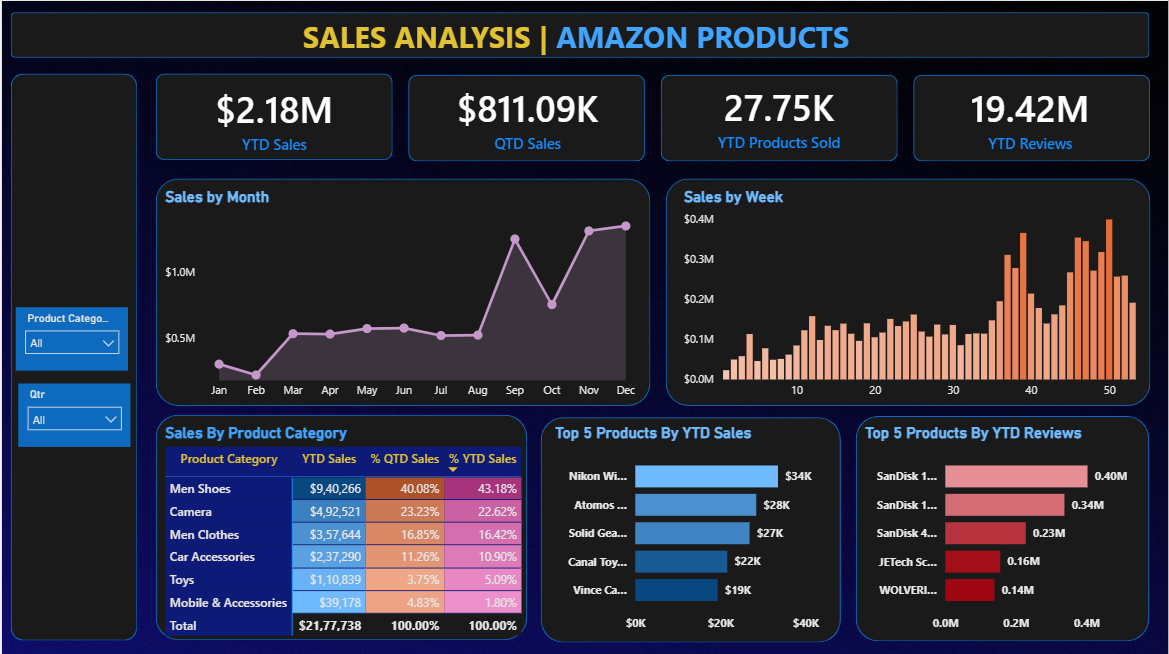

Layout of this report page (visuals, bound fields, positions):
{"tool":"powerbi","page":{"name":"Page 1","canvas":[1280,720],"ordinal":0},"visuals":[{"type":"shape","box":[10,12.5,1250,50],"z":0},{"type":"textbox","box":[325,12.5,630,56.2],"z":1000},{"type":"shape","box":[9.7,79.6,138.7,622.5],"z":2000},{"type":"shape","box":[168.8,80,260,95],"z":3000},{"type":"card","fields":{"Values":["Amazon_Data.YTD Sales"]},"box":[186.2,75,225,106.2],"z":4000},{"type":"shape","box":[445.8,81.2,260,95],"z":5000},{"type":"card","fields":{"Values":["Amazon_Data.QTD Sales"]},"box":[467.5,86.2,218.8,83.8],"z":6000},{"type":"shape","box":[722.9,81.2,260,95],"z":7000},{"type":"shape","box":[1000,81.2,260,95],"z":8000},{"type":"card","fields":{"Values":["Amazon_Data.Products Sold"]},"box":[743.8,85,218.8,83.8],"z":9000},{"type":"card","fields":{"Values":["Amazon_Data.YTD Reviews"]},"box":[1020,86.2,218.8,83.8],"z":10000},{"type":"shape","box":[168.9,195.4,542.9,249.7],"z":11000},{"type":"areaChart","title":"Sales by Month ","fields":{"Category":["Date Table.Month Name"],"Y":["Sum(Amazon_Data.Price(Dollar))"]},"box":[174.9,203.9,532,241.3],"z":12000},{"type":"shape","box":[728.7,195.4,532,249.7],"z":13000},{"type":"columnChart","title":"Sales by Week","fields":{"Y":["Sum(Amazon_Data.Price(Dollar))"],"Category":["Date Table.Week"]},"box":[743.2,203.9,527.2,241.3],"z":14000},{"type":"shape","box":[168.9,454.8,407.8,247.3],"z":15000},{"type":"pivotTable","title":"Sales By Product Category","fields":{"Rows":["Amazon_Data.Product Category"],"Values":["Amazon_Data.YTD Sales1","Amazon_Data.QTD Sales","Amazon_Data.YTD Sales"]},"box":[174.9,464.5,460.9,247.3],"z":16000},{"type":"shape","box":[591.2,457.2,329.4,247.3],"z":17000},{"type":"shape","box":[937.4,456,322.1,247.3],"z":18000},{"type":"clusteredBarChart","title":"Top 5 Products By YTD Sales","fields":{"Category":["Amazon_Data.Product Description"],"Y":["Amazon_Data.YTD Sales"]},"box":[602.4,463.8,318.4,237.4],"z":19000},{"type":"clusteredBarChart","title":"Top 5 Products By YTD Reviews","fields":{"Category":["Amazon_Data.Product Description"],"Y":["Amazon_Data.YTD Reviews"]},"box":[942.7,463.8,318.4,237.4],"z":20000},{"type":"slicer","fields":{"Values":["Amazon_Data.Product Category"]},"box":[15.1,336.2,123.5,70],"z":21000},{"type":"slicer","fields":{"Values":["Date Table.Qtr"]},"box":[17.8,419.9,123.5,70],"z":22000}]}

Visuals, with their boxes in screenshot pixels (x1, y1, x2, y2), scaled from the page's 1280x720 canvas onto the 1169x654 screenshot:
shape: BBox(9, 11, 1151, 57)
textbox: BBox(297, 11, 872, 62)
shape: BBox(9, 72, 136, 638)
shape: BBox(154, 73, 392, 159)
card - Amazon_Data.YTD Sales: BBox(170, 68, 376, 165)
shape: BBox(407, 74, 645, 160)
card - Amazon_Data.QTD Sales: BBox(427, 78, 627, 154)
shape: BBox(660, 74, 898, 160)
shape: BBox(913, 74, 1151, 160)
card - Amazon_Data.Products Sold: BBox(679, 77, 879, 153)
card - Amazon_Data.YTD Reviews: BBox(932, 78, 1131, 154)
shape: BBox(154, 177, 650, 404)
"Sales by Month " areaChart: BBox(160, 185, 646, 404)
shape: BBox(666, 177, 1151, 404)
"Sales by Week" columnChart: BBox(679, 185, 1160, 404)
shape: BBox(154, 413, 527, 638)
"Sales By Product Category" pivotTable: BBox(160, 422, 581, 647)
shape: BBox(540, 415, 841, 640)
shape: BBox(856, 414, 1150, 639)
"Top 5 Products By YTD Sales" clusteredBarChart: BBox(550, 421, 841, 637)
"Top 5 Products By YTD Reviews" clusteredBarChart: BBox(861, 421, 1152, 637)
slicer - Amazon_Data.Product Category: BBox(14, 305, 127, 369)
slicer - Date Table.Qtr: BBox(16, 381, 129, 445)
